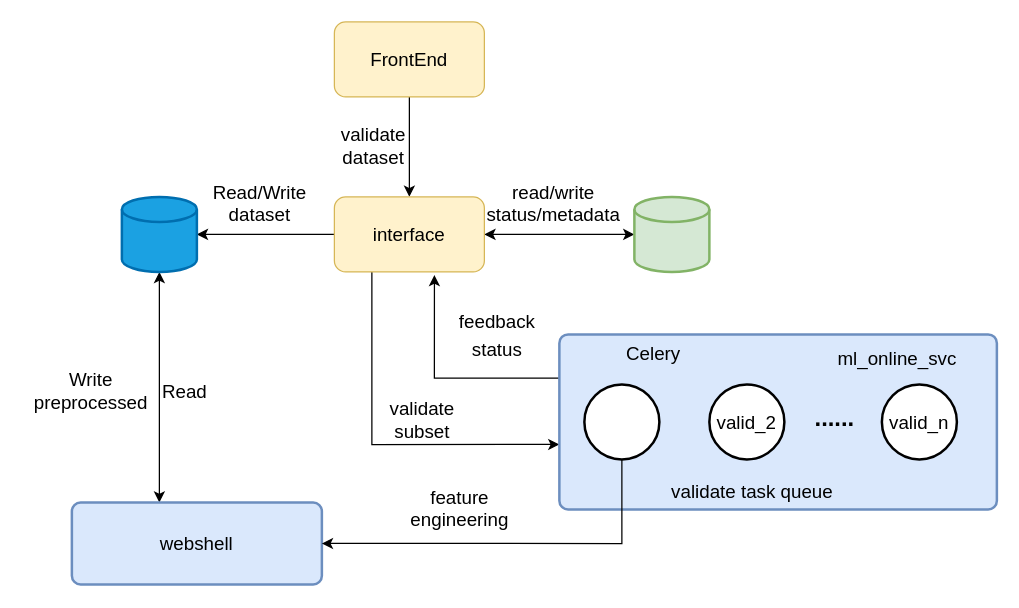
This 1019x608 diagram has some shape labels left out. The centre of each missing label's shape, as x and y in pixels:
MinIO: the point at 159,233
sqlite: the point at 671,233
valid_1: the point at 621,421
